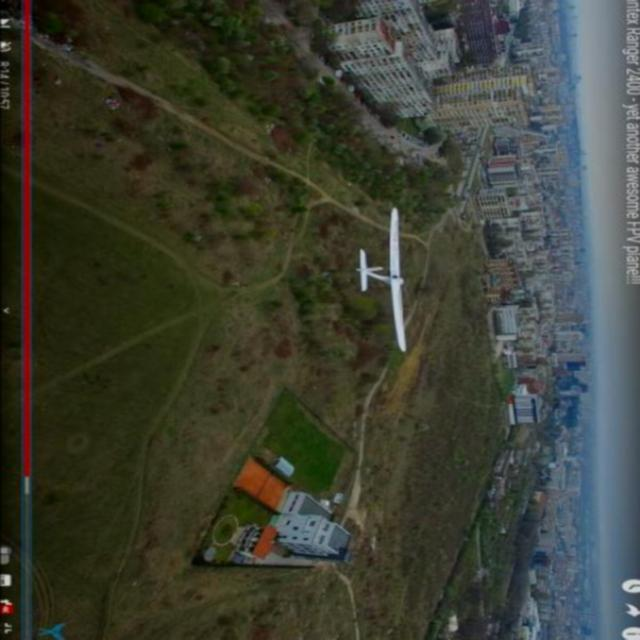plane: (355, 206, 408, 352)
